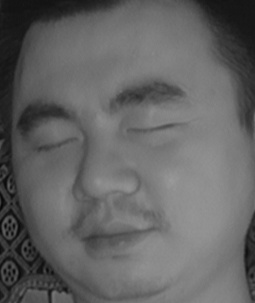blink: (32, 128, 81, 164), (128, 111, 177, 147)
mouth: (69, 207, 159, 258)
